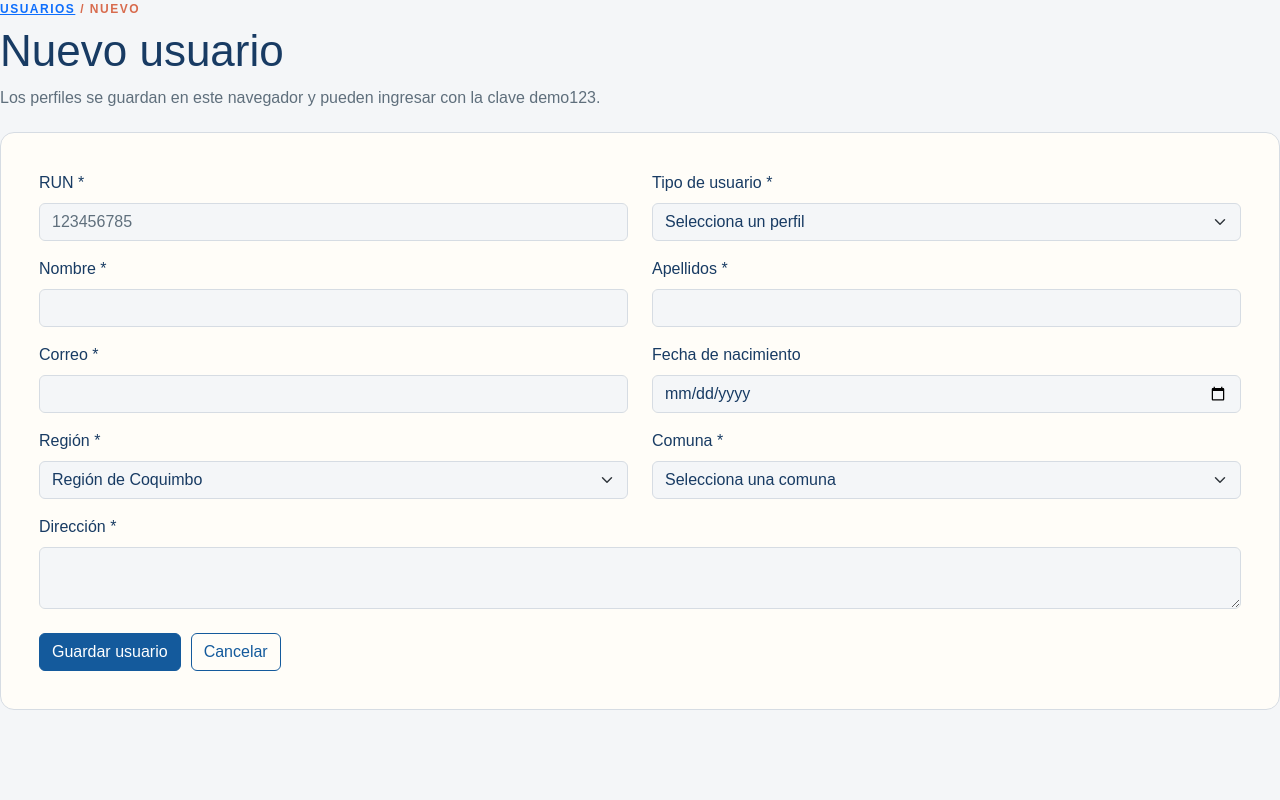
Test case: AdminUsuarioFormContainer › muestra errores y no guarda si el formulario está vacío
Step 1. Click the button "Guardar usuario" → click(110, 652), box [39,633,181,671]
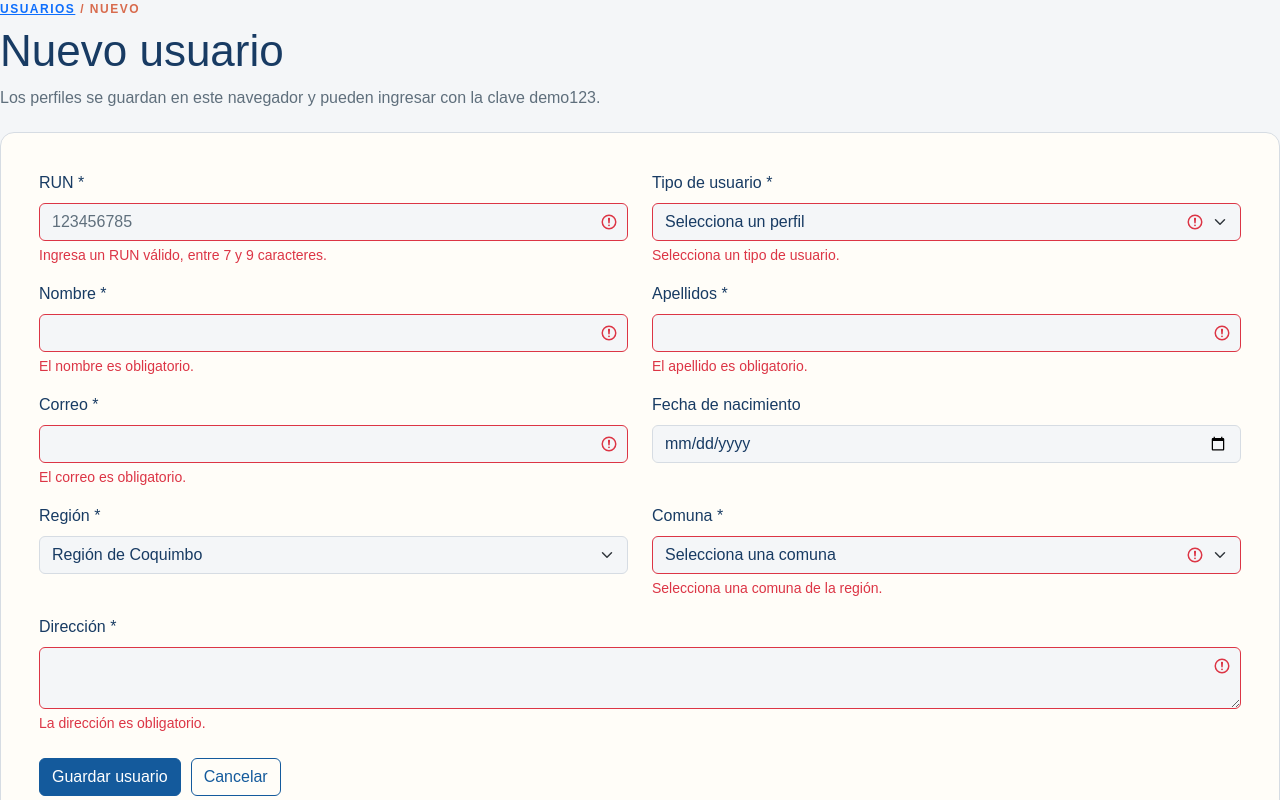
expect the text "Selecciona un tipo de usuario." is shown: met, box [652,247,840,263]
